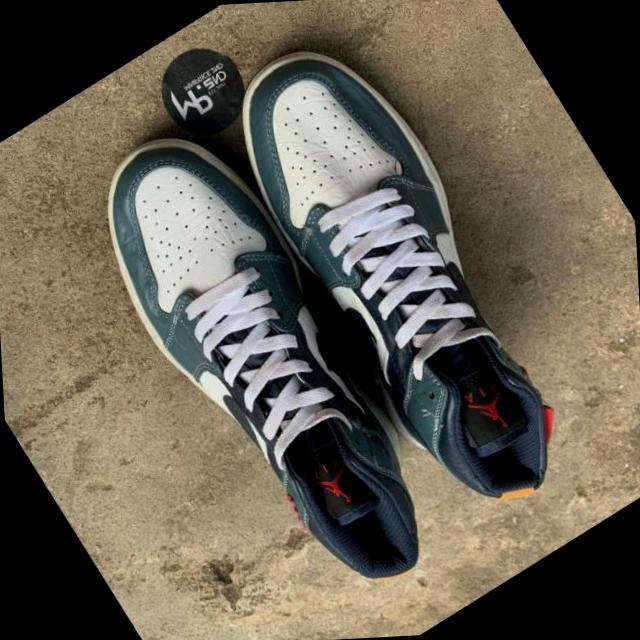nike_fake_jordan: (192, 0, 615, 543), (57, 91, 472, 632)
